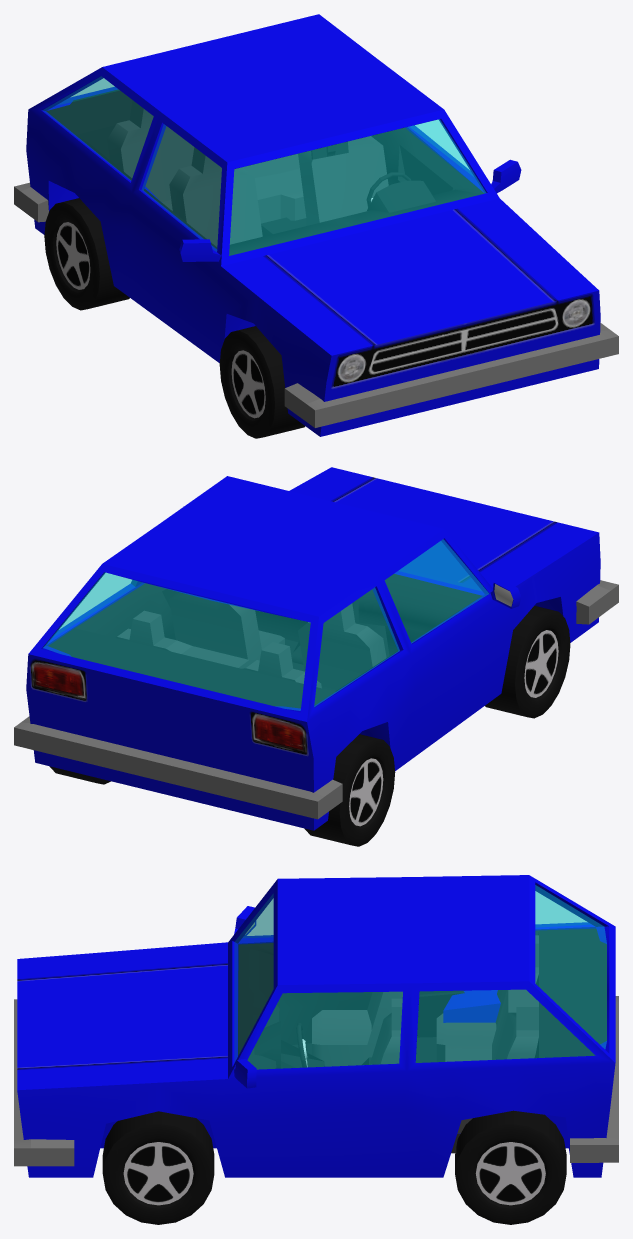
3 views of the same model, one above another, from view 1: azimuth 30°, elevation 25°; view 2: azimuth 150°, elevation 25°; view 3: azimuth 270°, elevation 25° (orthographic).
Parts seen in each view (by area): view 1: pCube12, CARRO1P1:pCube44, CARRO1P1:pCube12, CARRO1P1:pCube7, CARRO1P1:pCube36, CARRO1P1:pCylinder13, CARRO1P1:pCylinder14, CARRO1P1:pCube54, CARRO1P1:pCube55, CARRO1P1:pCube22, CARRO1P1:pCube35, CARRO1P1:pCube27 (+4 smaller); view 2: pCube12, CARRO1P1:pCube45, CARRO1P1:pCube12, CARRO1P1:pCube9, CARRO1P1:pCylinder13, CARRO1P1:pCylinder14, CARRO1P1:pCube55, CARRO1P1:pCube54, CARRO1P1:pCube22, CARRO1P1:pCube35, CARRO1P1:pCube36, CARRO1P1:pCube44 (+3 smaller); view 3: pCube12, CARRO1P1:pCube12, CARRO1P1:pCylinder7, CARRO1P1:pCylinder3, CARRO1P1:pCube47, CARRO1P1:pCube49, CARRO1P1:pCube45, CARRO1P1:pCube36, CARRO1P1:pCube44, CARRO1P1:pCube35, CARRO1P1:pCube7, CARRO1P1:pCube9 (+5 smaller).
Boxes of the visible parts, x1,y1,x2,y2 form: pCube12: (26, 14, 600, 436); CARRO1P1:pCube44: (229, 119, 485, 255); CARRO1P1:pCube12: (46, 89, 484, 255); CARRO1P1:pCube7: (284, 322, 618, 427); CARRO1P1:pCube36: (107, 100, 306, 223); CARRO1P1:pCylinder13: (219, 326, 305, 438); CARRO1P1:pCylinder14: (44, 198, 129, 310); CARRO1P1:pCube54: (43, 76, 153, 180); CARRO1P1:pCube55: (142, 124, 221, 251); CARRO1P1:pCube22: (298, 136, 388, 225); CARRO1P1:pCube35: (169, 147, 262, 246); CARRO1P1:pCube27: (367, 180, 435, 212); pCube12: (26, 467, 600, 830); CARRO1P1:pCube45: (43, 572, 310, 710); CARRO1P1:pCube12: (48, 574, 481, 708); CARRO1P1:pCube9: (14, 716, 342, 819); CARRO1P1:pCylinder13: (485, 605, 570, 718); CARRO1P1:pCylinder14: (304, 734, 395, 846); CARRO1P1:pCube55: (385, 539, 488, 643); CARRO1P1:pCube54: (314, 587, 399, 706); CARRO1P1:pCube22: (169, 592, 284, 660); CARRO1P1:pCube35: (298, 603, 386, 691); CARRO1P1:pCube36: (116, 610, 321, 688); CARRO1P1:pCube44: (399, 541, 481, 590); pCube12: (17, 875, 615, 1177); CARRO1P1:pCube12: (238, 928, 606, 1153); CARRO1P1:pCylinder7: (455, 1110, 566, 1224); CARRO1P1:pCylinder3: (102, 1111, 214, 1224); CARRO1P1:pCube47: (248, 992, 402, 1069); CARRO1P1:pCube49: (416, 990, 594, 1062); CARRO1P1:pCube45: (535, 885, 606, 1048); CARRO1P1:pCube36: (436, 935, 538, 1133); CARRO1P1:pCube44: (234, 894, 273, 1062); CARRO1P1:pCube35: (312, 991, 402, 1066); CARRO1P1:pCube7: (14, 999, 74, 1166); CARRO1P1:pCube9: (570, 996, 618, 1162).
Bounding box in the file's own units: 2.26 × 1.41 × 3.45.
Materials: 11 (2 with a texture image).
